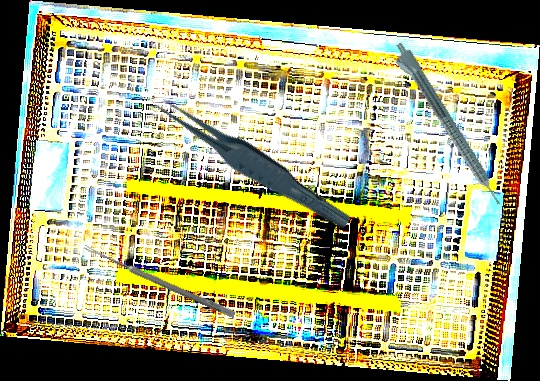Handpiece: (386, 40, 505, 212)
Surgical Spoon: (82, 243, 237, 319)
Tissue Forceps: (151, 80, 353, 244)
